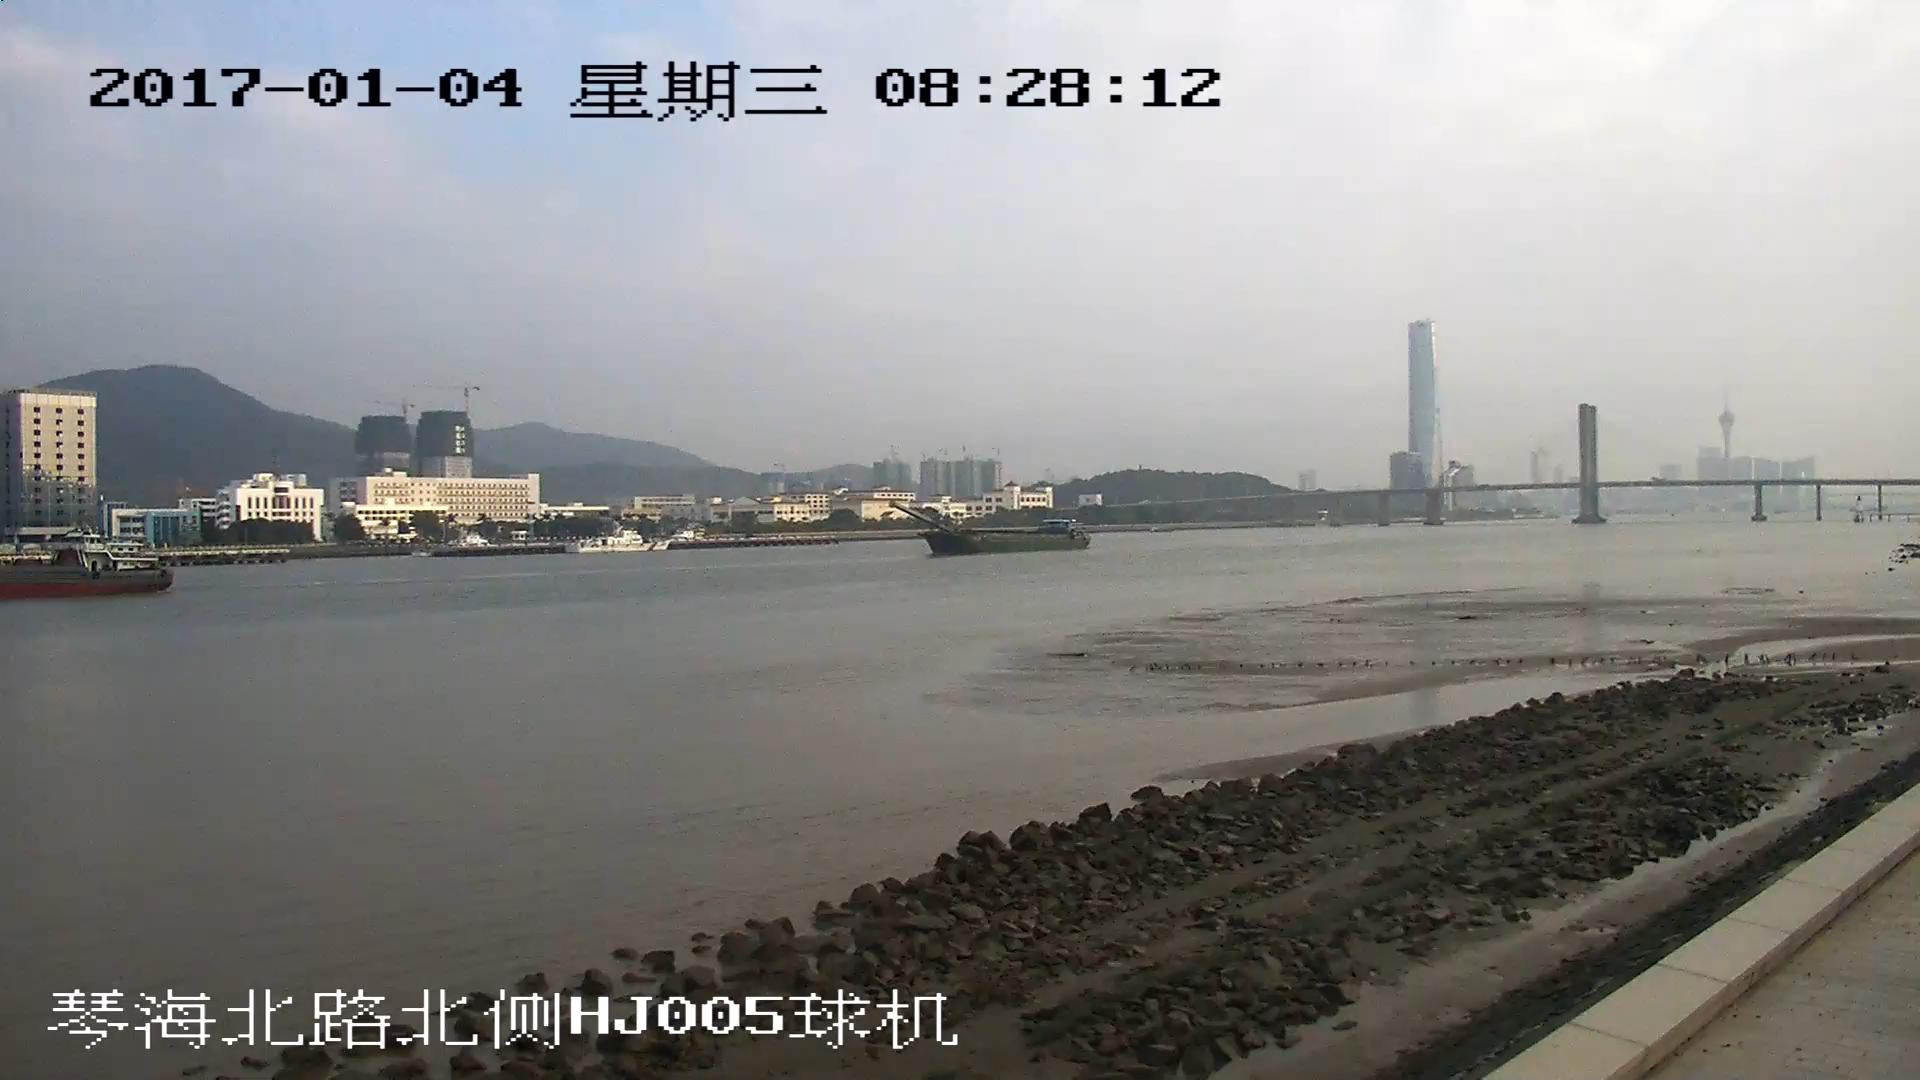bulk cargo carrier: (896, 505, 1086, 547)
